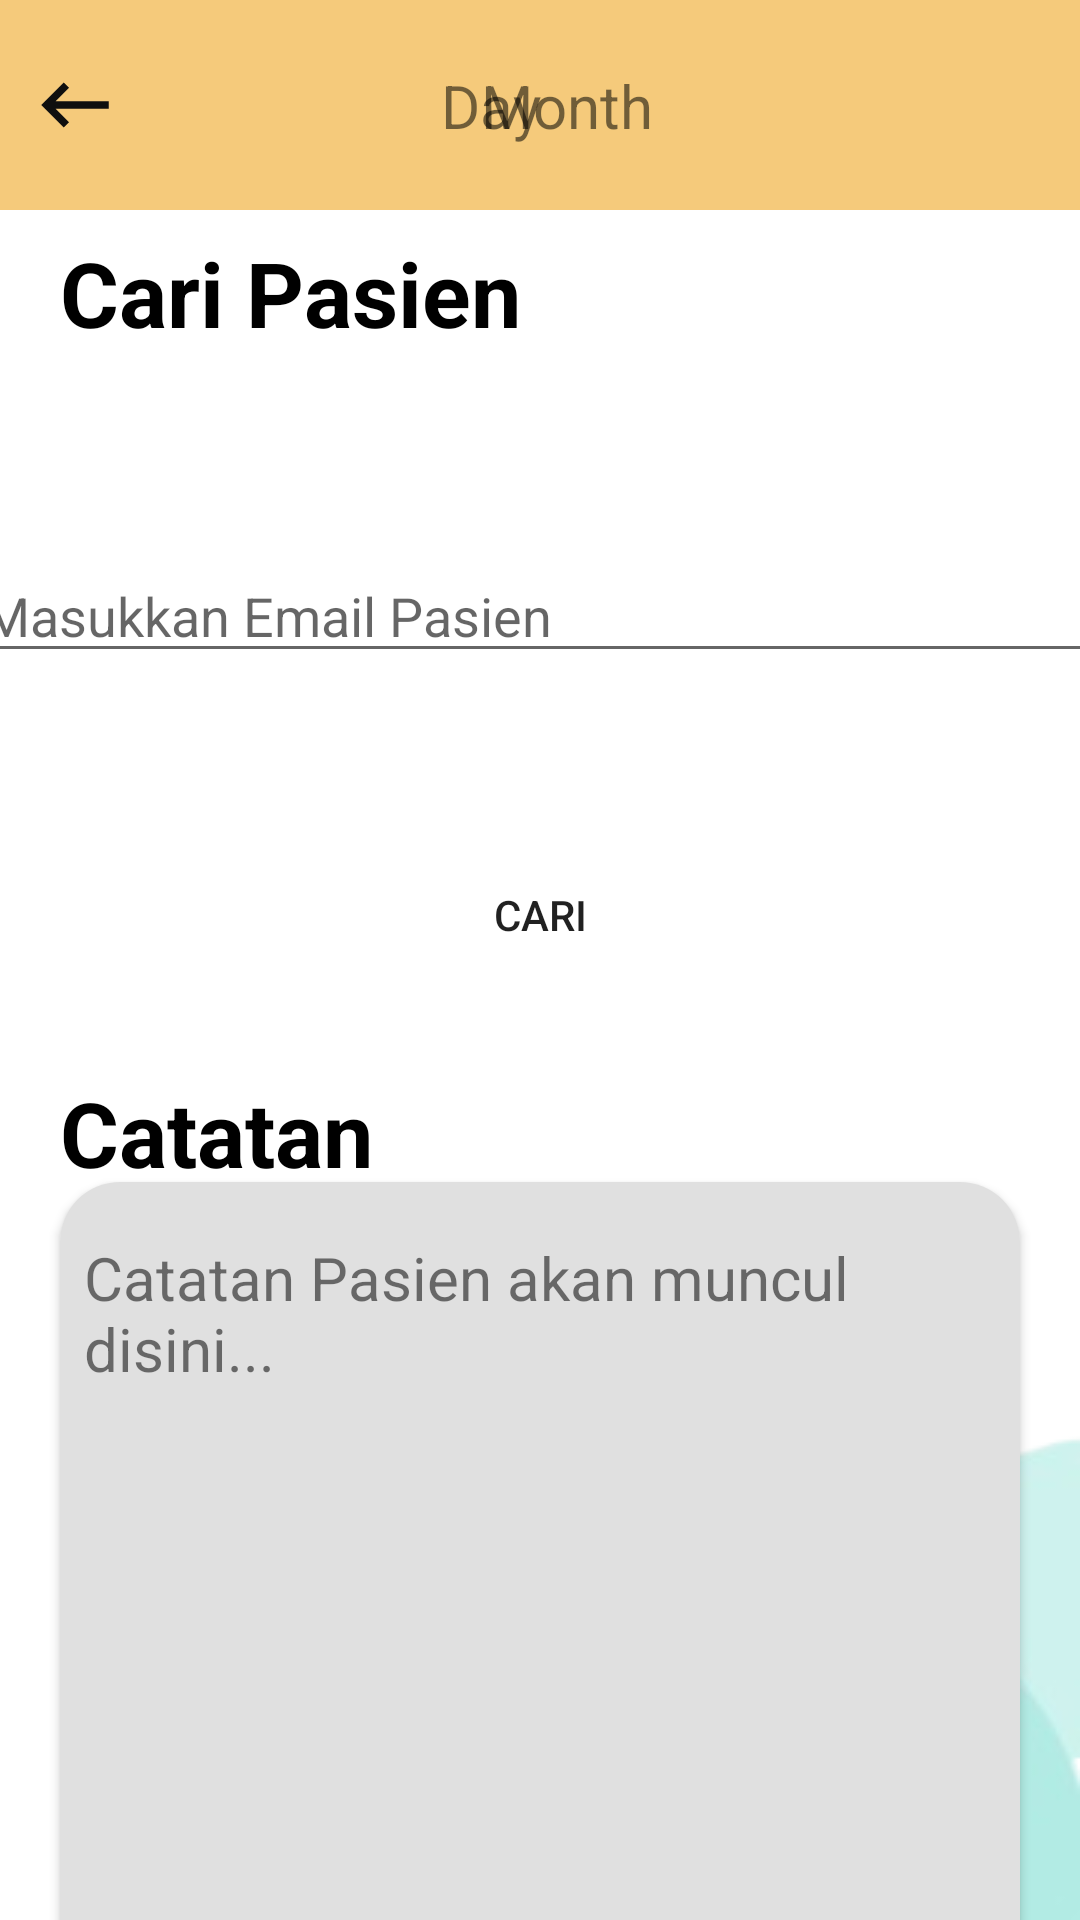

Icon click points for this 1080×1920 phone screenshot, format (x=x, y=y):
back: (x=75, y=105)
